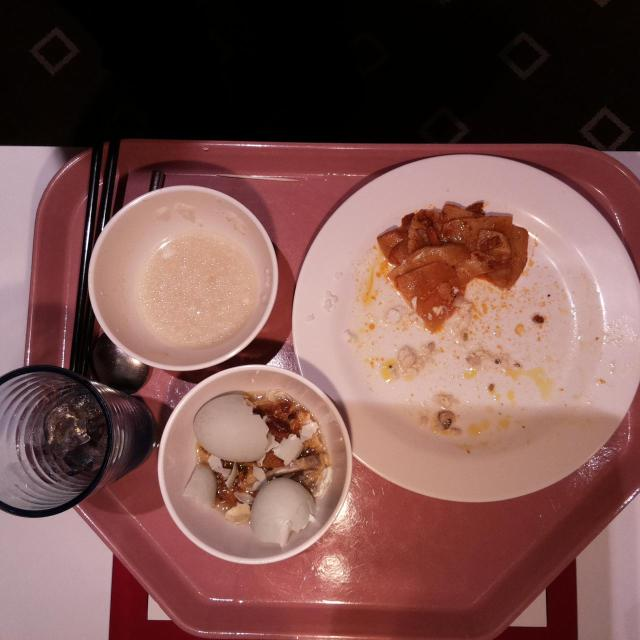Bone: (264, 454, 330, 477)
Egg-shell: (191, 389, 271, 463), (249, 479, 319, 549)
